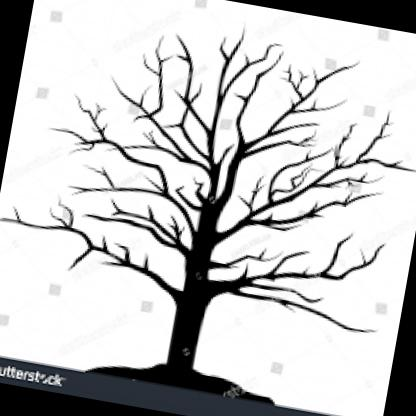branch_sharp: (0, 0, 416, 338)
trunk_straight: (162, 306, 207, 366)
